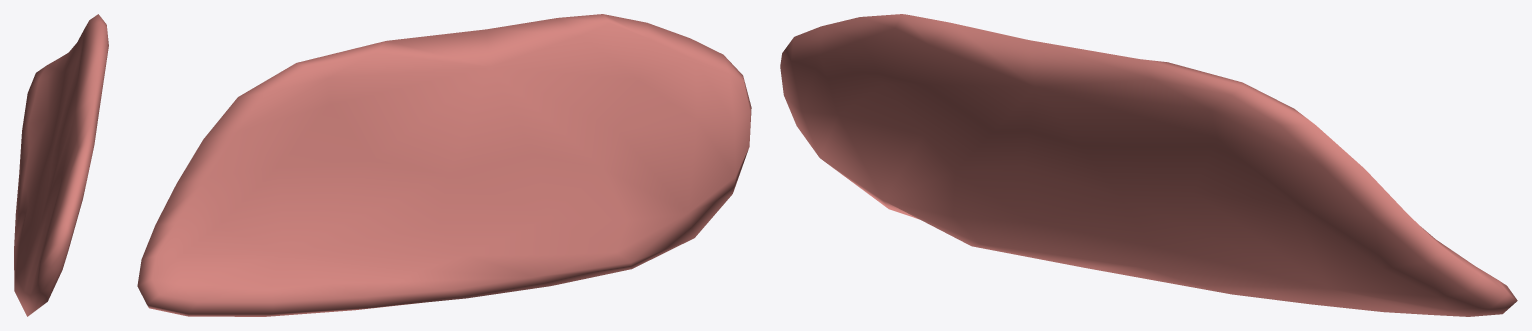
3 views of the same model, side by side, from view 1: azimuth 30°, elevation 25°; view 2: azimuth 150°, elevation 25°; view 3: azimuth 270°, elevation 25° (orthographic). The views are drawn at different scales.
Visible parts, largest first — view 1: ZA_0e20761bc1d1673e; view 2: ZA_0e20761bc1d1673e; view 3: ZA_0e20761bc1d1673e.
Boxes of the visible parts, x1=… form: ZA_0e20761bc1d1673e: x1=14, y1=14, x2=108, y2=316; ZA_0e20761bc1d1673e: x1=137, y1=14, x2=751, y2=316; ZA_0e20761bc1d1673e: x1=780, y1=14, x2=1517, y2=316.
Bounding box in the file's own units: 0.00498 × 0.00347 × 0.00826.
